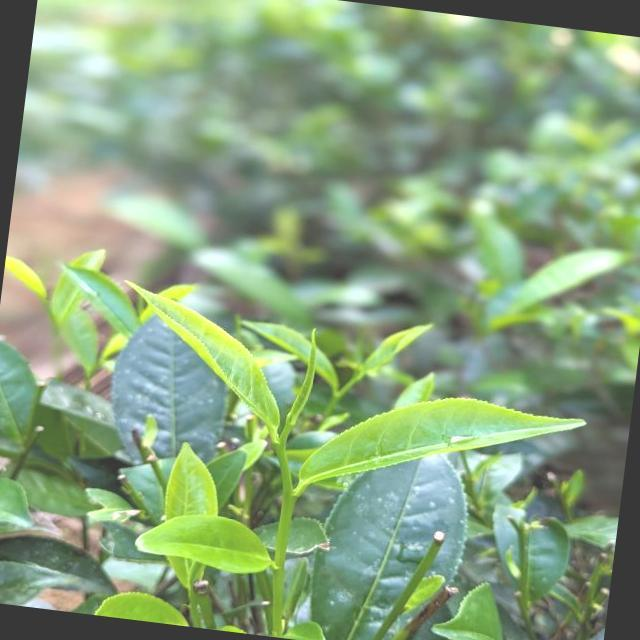Stem: (284, 489, 299, 504), (334, 393, 341, 400)
